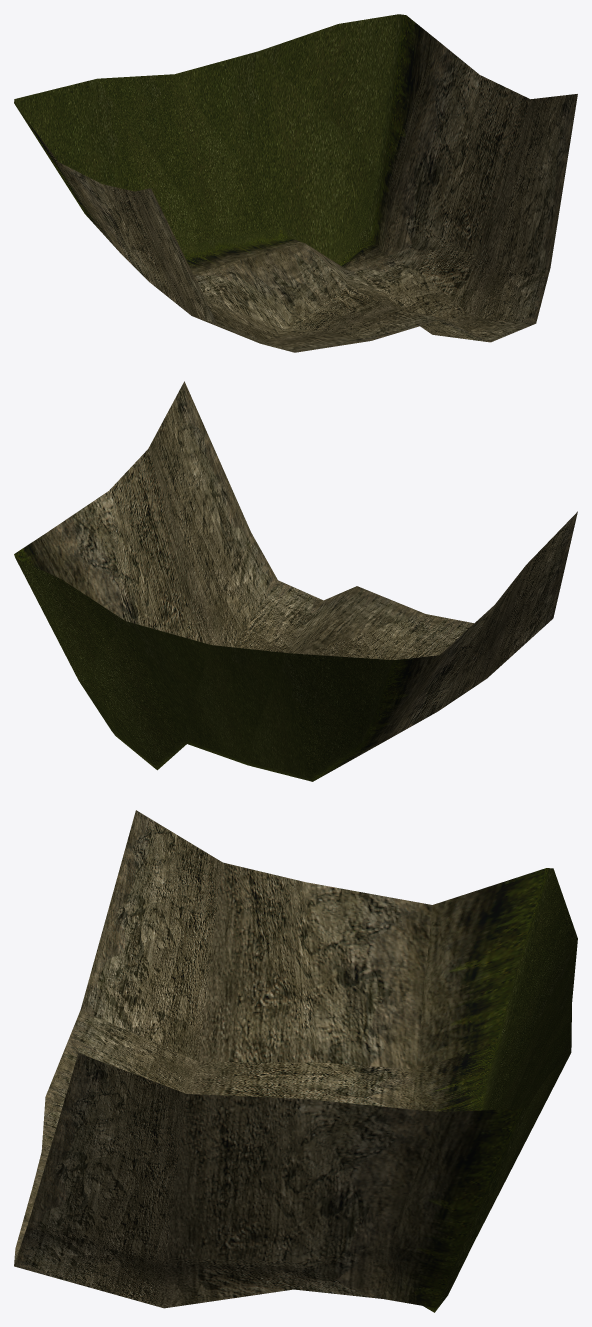
The model's file is MEP_Edge_01_g.fbx.
3 views of the same model, one above another, from view 1: azimuth 30°, elevation 25°; view 2: azimuth 150°, elevation 25°; view 3: azimuth 270°, elevation 25° (orthographic). The views are drawn at different scales.
Parts seen in each view (by area): view 1: MEP_Edge_01_g; view 2: MEP_Edge_01_g; view 3: MEP_Edge_01_g.
Boxes of the visible parts, x1,y1,x2,y2 form: MEP_Edge_01_g: [14, 14, 577, 352]; MEP_Edge_01_g: [14, 381, 577, 781]; MEP_Edge_01_g: [14, 810, 577, 1312].
Size of the model in its own units: 48.5 by 28.89 by 44.74.
Materials: 1 (1 with a texture image).
